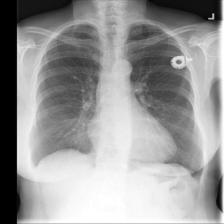normal: (25, 18, 206, 183)
